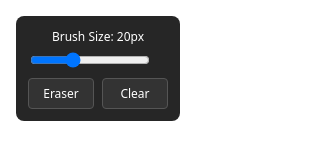
Scenario: MaskPenTool Component (Story 7.5) › Mask Erasing (AC #3) › should activate eraser mode on toggle click
This screenshot has width=320, height=160.
Click the button with test id "eraser-toggle". click: (61, 94)
box: [28,78,94,109]
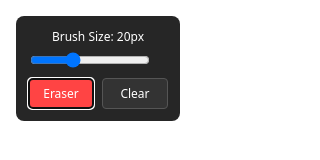
expect the button with test id "eraser-toggle" is pressed: met, box [28,78,94,109]
